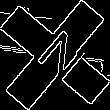N_SW: (23, 23, 87, 87)
